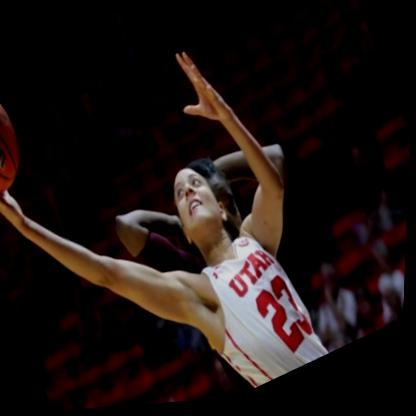basketball: (0, 71, 35, 200)
